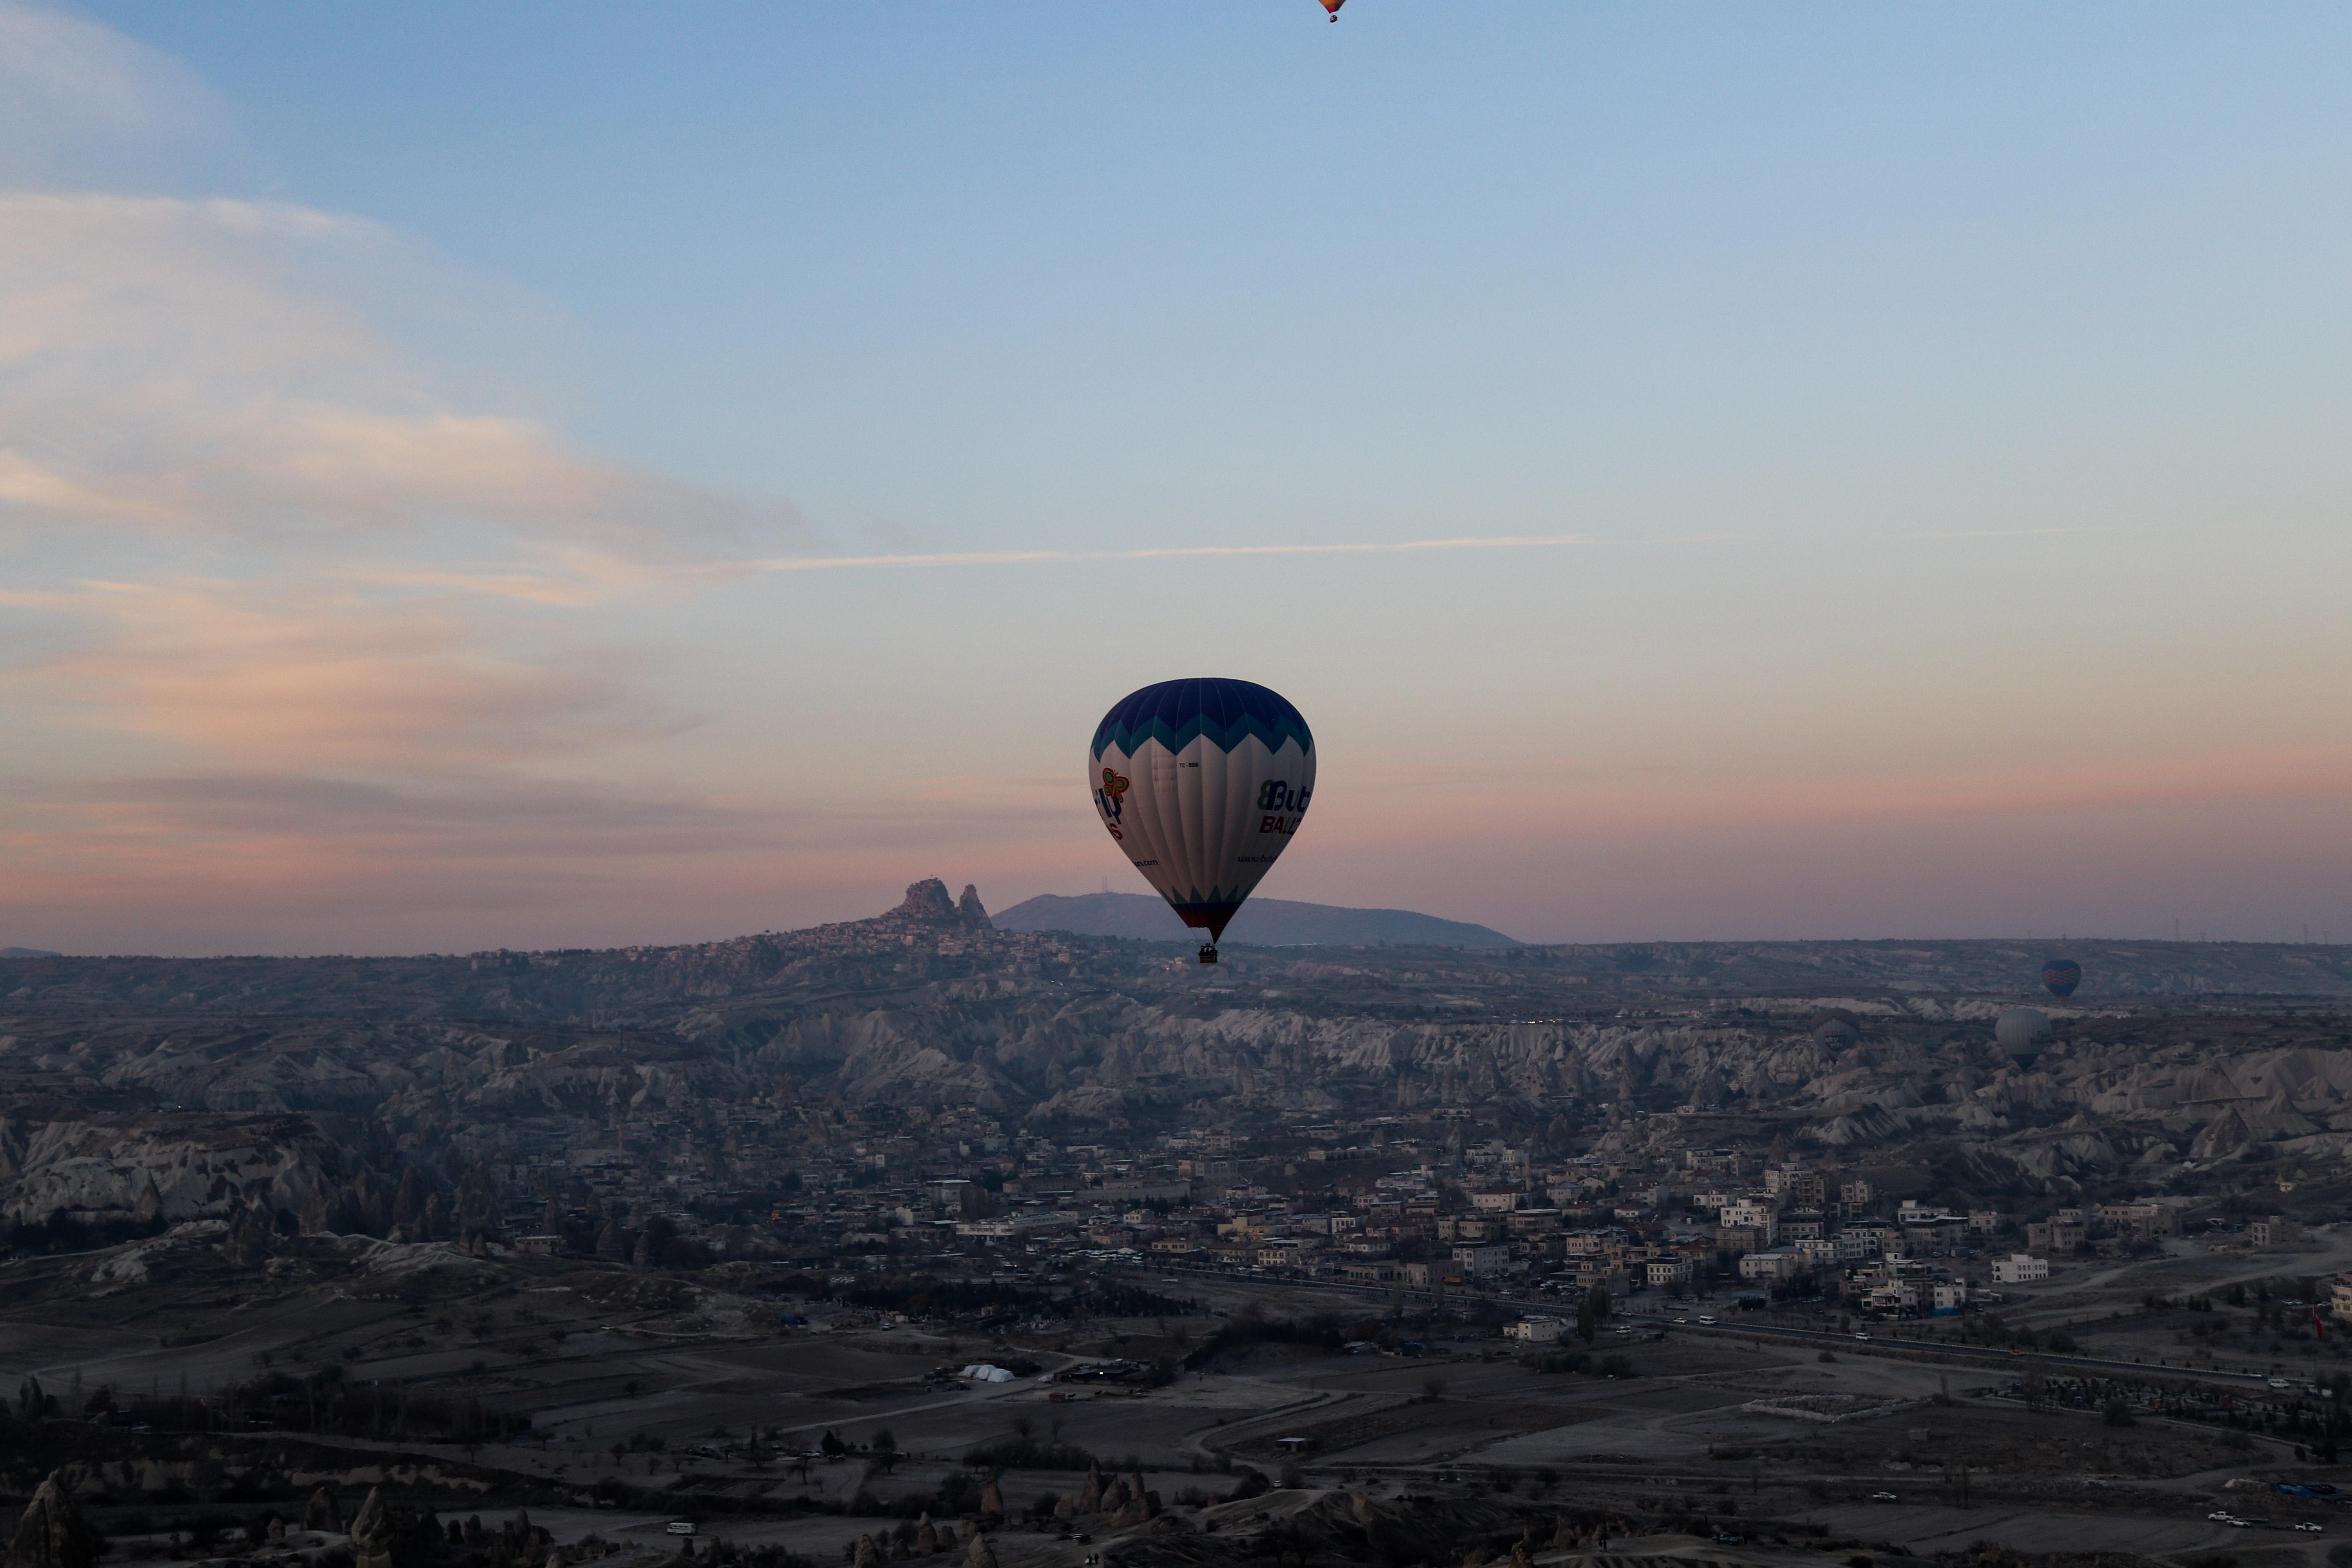hot air ballon: (1087, 675, 1318, 966)
